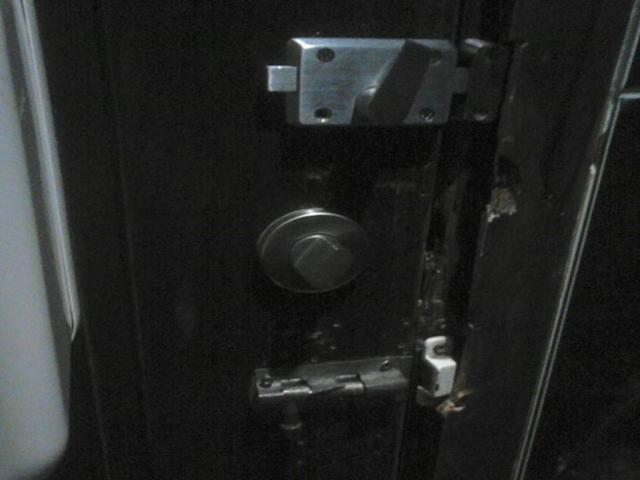Door-handle: (256, 208, 371, 292)
